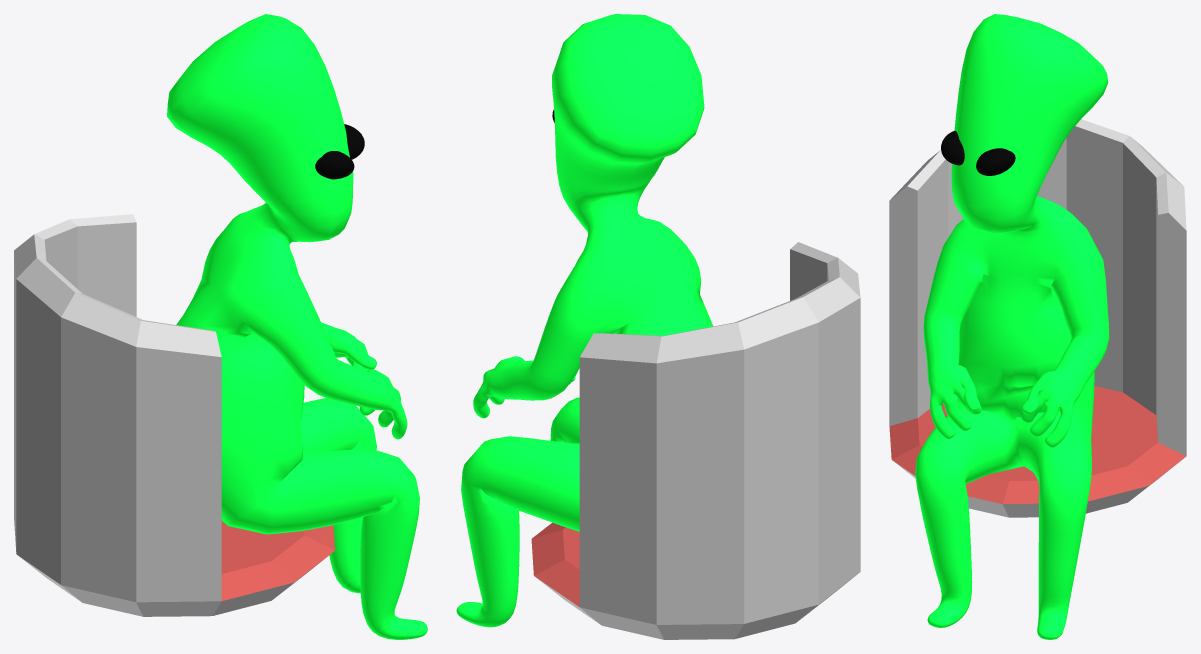
The model's file is Charon34.gltf.
The picture shows the model from 3 angles, left to right: view 1: azimuth 30°, elevation 25°; view 2: azimuth 150°, elevation 25°; view 3: azimuth 270°, elevation 25°; orthographic projection. The views are drawn at different scales.
Parts seen in each view (by area): view 1: Plane; view 2: Plane; view 3: Plane.
Part boxes in pixels (<box>): Plane: <box>14,14,427,639</box>; Plane: <box>456,14,860,639</box>; Plane: <box>889,14,1186,639</box>.
Bounding box in the file's own units: 0.5173 × 0.822 × 0.3951.
